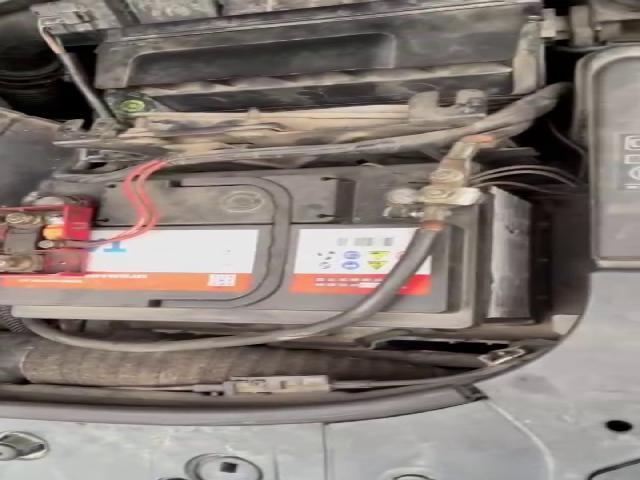accumulator: (0, 163, 556, 332)
